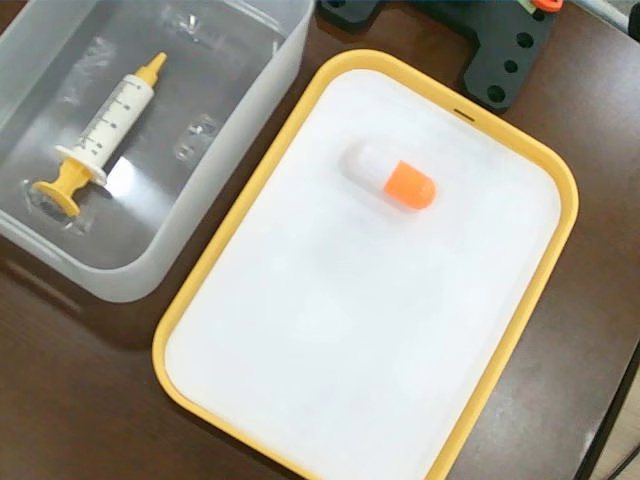pill: (344, 137, 437, 212)
syringe: (35, 49, 169, 216)
